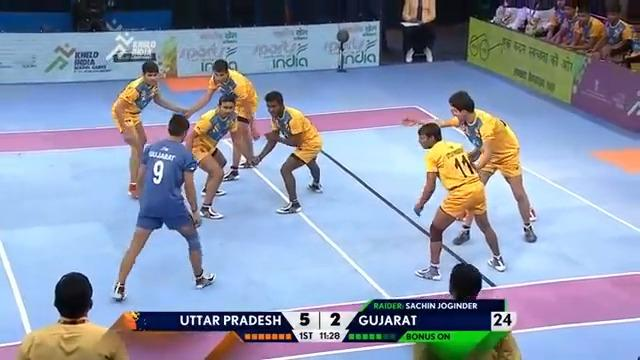Player: (401, 89, 538, 245), (411, 121, 506, 280), (110, 58, 189, 198), (247, 88, 326, 216), (182, 58, 260, 183)
Raider: (110, 112, 218, 302)
referee: (413, 262, 521, 359), (15, 271, 130, 359), (399, 0, 437, 63)
